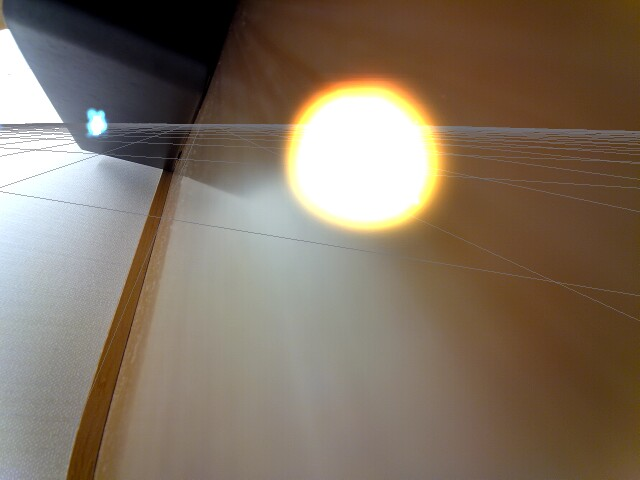firebig: (269, 71, 457, 240)
